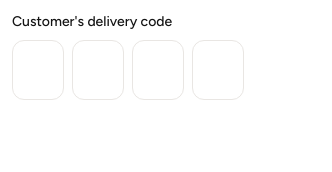
Test: CodeEntry › auto-advances while typing and completes on the last digit
Click the field named "Digit 1" at {"x": 38, "y": 70}, box [12,40,64,100]
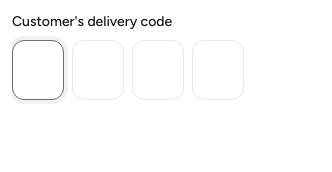
Type keys "47"
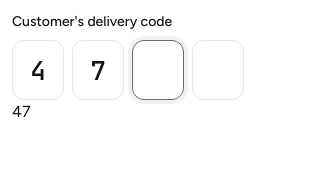
Type keys "19"
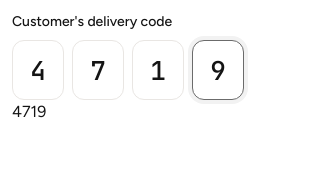
Expected: the text with test id "v" reads "4719", [12,102,46,121]
